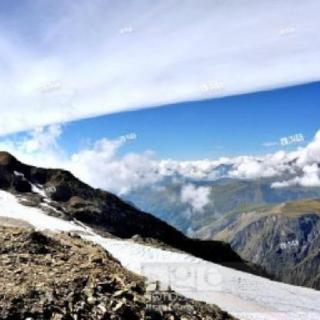Cirrostratus: (0, 0, 320, 188)
